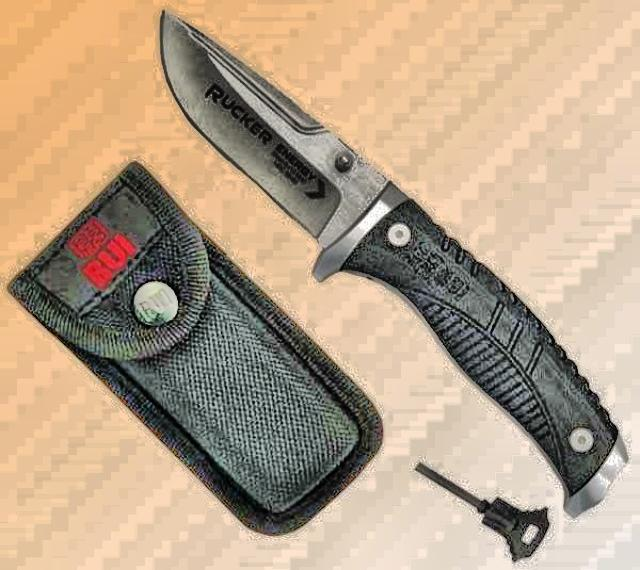knife: (148, 1, 444, 302)
